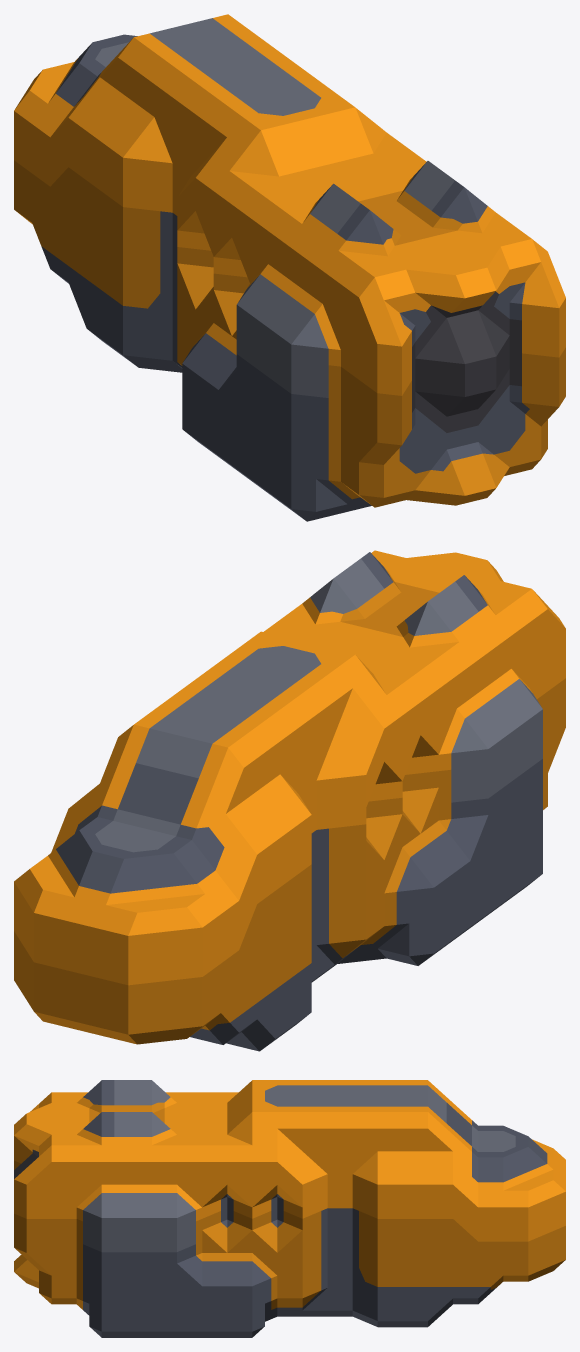
File: Gun.glb
The picture shows the model from 3 angles, top to bottom: view 1: azimuth 30°, elevation 25°; view 2: azimuth 150°, elevation 25°; view 3: azimuth 270°, elevation 25°; orthographic projection. The views are drawn at different scales.
Visible parts, largest first — view 1: pl0_node; view 2: pl0_node; view 3: pl0_node.
Part boxes in pixels (left/top/right/bottom): pl0_node: left=14, top=14, right=565, bottom=521; pl0_node: left=14, top=550, right=565, bottom=1051; pl0_node: left=14, top=1080, right=565, bottom=1337.
Size of the model in its own units: 0.8 by 0.9 by 2.2.
Materials: 1 (1 with a texture image).
